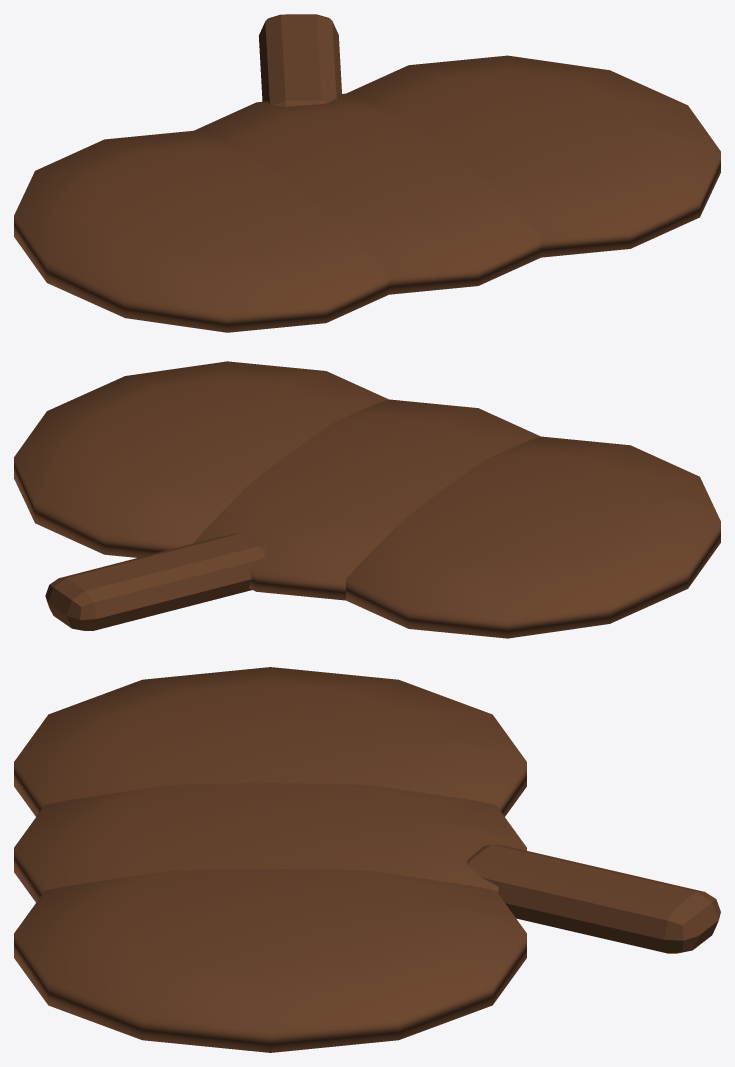
The model's file is Order_Marker_Pepper.fbx.
3 views of the same model, one above another, from view 1: azimuth 30°, elevation 25°; view 2: azimuth 150°, elevation 25°; view 3: azimuth 270°, elevation 25° (orthographic). The views are drawn at different scales.
Parts seen in each view (by area): view 1: Body; view 2: Body; view 3: Body.
Boxes of the visible parts, bbox=[...] form: Body: bbox=[14, 14, 720, 332]; Body: bbox=[14, 361, 720, 638]; Body: bbox=[14, 667, 720, 1052].
Bounding box in the file's own units: 0.333 × 0.034 × 0.2752.
